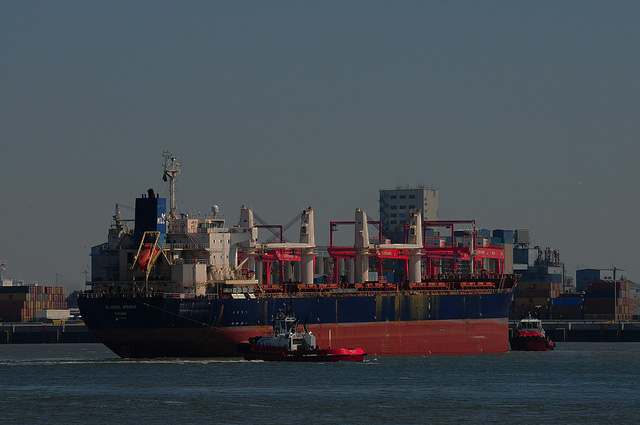bulk carrier: (82, 158, 508, 353)
tug_boat: (241, 297, 367, 361), (509, 303, 558, 354)
